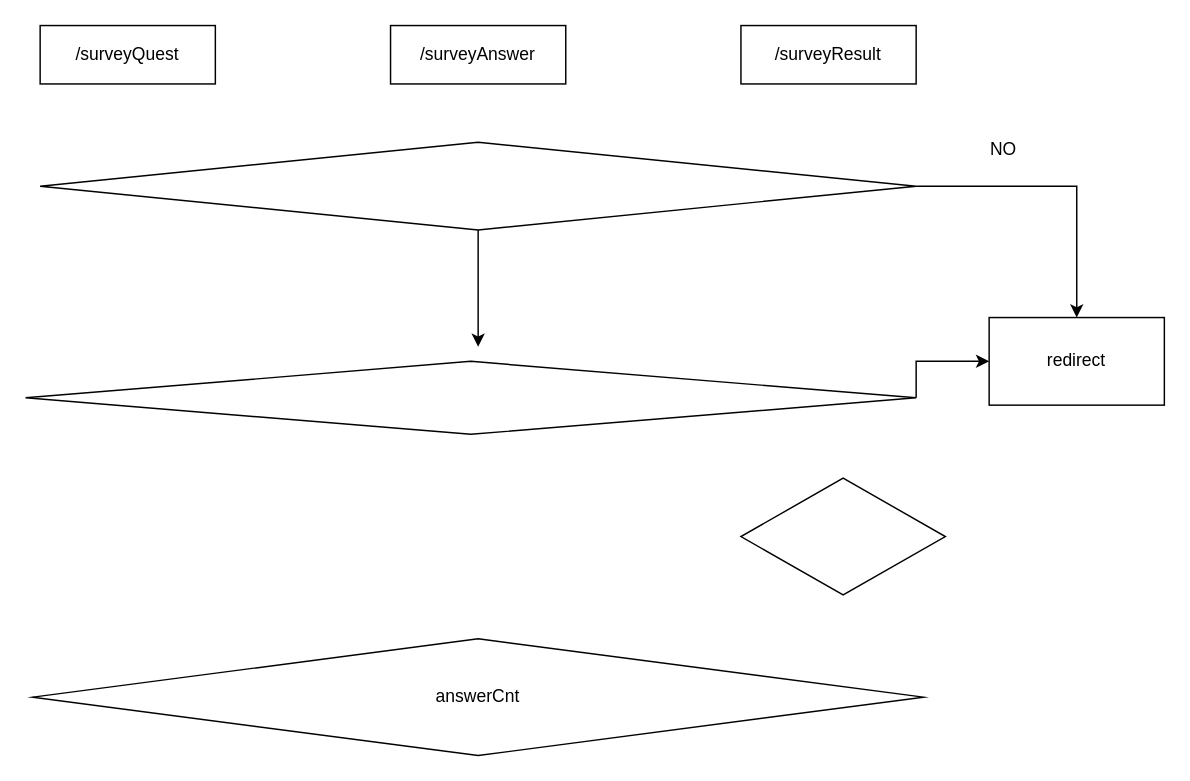
The diagram is 1190 pixels wide and 781 high, and some of its shapes have lost their labels. Each missing label, with the centre of its shape:
ingCnt: [842,536]
login: [477,185]
tpno: [470,397]
